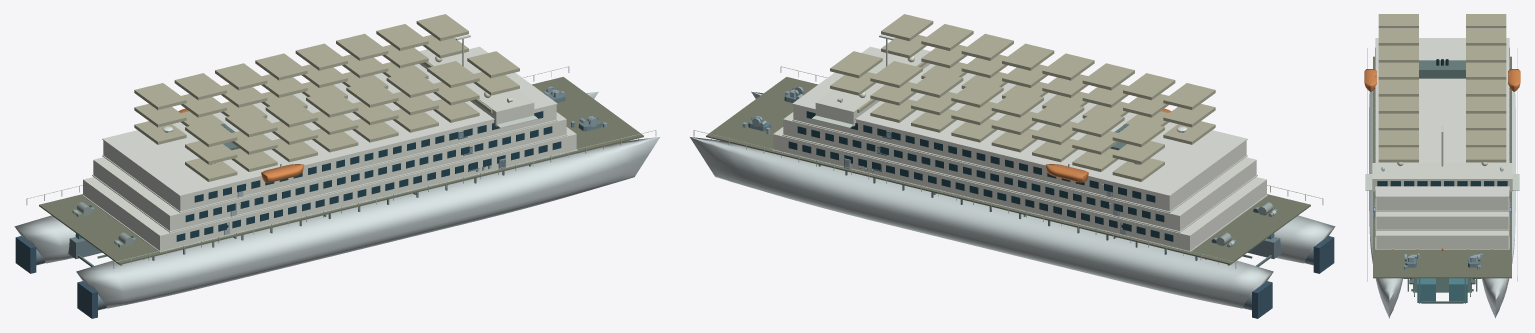
The model's file is francisco.lod0.glb.
3 renders of one model, left to right at view 1: azimuth 30°, elevation 25°; view 2: azimuth 150°, elevation 25°; view 3: azimuth 270°, elevation 25°, orthographic. The views are drawn at different scales.
Visible parts, largest first — view 1: francisco.structure.twin-hulls.starboard-pontoon.1, francisco.accommodation.superstructure.superstructure-weathe, francisco.structure.decks.main-strength-deck.1, francisco.accommodation.superstructure.deck-1-enclosure.1, francisco.accommodation.superstructure.deck-2-enclosure.1, francisco.accommodation.deck-6-interiors.deck-6-starboard-ca (×8), francisco.accommodation.deck-5-interiors.deck-5-starboard-ca (×8), francisco.accommodation.superstructure.deck-3-enclosure.1, francisco.accommodation.deck-4-interiors.deck-4-starboard-ca (×7), francisco.navigation.bridge.wheelhouse.1, francisco.structure.twin-hulls.port-pontoon.1, francisco.accommodation.superstructure.deck-2-floor.1 (+23 smaller); view 2: francisco.structure.twin-hulls.port-pontoon.1, francisco.accommodation.superstructure.superstructure-weathe, francisco.structure.decks.main-strength-deck.1, francisco.accommodation.superstructure.deck-1-enclosure.1, francisco.accommodation.superstructure.deck-2-enclosure.1, francisco.accommodation.deck-6-interiors.deck-6-starboard-ca (×8), francisco.accommodation.deck-5-interiors.deck-5-starboard-ca (×8), francisco.accommodation.superstructure.deck-3-enclosure.1, francisco.navigation.bridge.wheelhouse.1, francisco.structure.twin-hulls.starboard-pontoon.1, francisco.accommodation.superstructure.deck-2-floor.1, francisco.accommodation.superstructure.deck-3-floor.1 (+29 smaller); view 3: francisco.accommodation.superstructure.superstructure-weathe, francisco.accommodation.deck-6-interiors.deck-6-starboard-ca (×8), francisco.structure.decks.main-strength-deck.1, francisco.navigation.bridge.wheelhouse.1, francisco.accommodation.superstructure.deck-2-enclosure.1, francisco.accommodation.superstructure.deck-1-enclosure.1, francisco.accommodation.superstructure.deck-3-enclosure.1, francisco.structure.twin-hulls.port-pontoon.1, francisco.structure.twin-hulls.starboard-pontoon.1, francisco.propulsion.exhaust.exhaust-casing.1, francisco.accommodation.deck-6-interiors.deck-6-port-cabin-6, francisco.accommodation.deck-5-interiors.deck-5-port-cabin-8 (+19 smaller).
Boxes of the visible parts, bbox=[...] form: francisco.structure.twin-hulls.starboard-pontoon.1: bbox=[76, 137, 659, 308]; francisco.accommodation.superstructure.superstructure-weathe: bbox=[102, 46, 557, 196]; francisco.structure.decks.main-strength-deck.1: bbox=[39, 77, 643, 264]; francisco.accommodation.superstructure.deck-1-enclosure.1: bbox=[83, 127, 576, 250]; francisco.accommodation.superstructure.deck-2-enclosure.1: bbox=[93, 112, 566, 231]; francisco.accommodation.deck-6-interiors.deck-6-starboard-ca (×8): bbox=[185, 51, 519, 147]; francisco.accommodation.deck-5-interiors.deck-5-starboard-ca (×8): bbox=[185, 72, 519, 164]; francisco.accommodation.superstructure.deck-3-enclosure.1: bbox=[103, 105, 556, 211]; francisco.accommodation.deck-4-interiors.deck-4-starboard-ca (×7): bbox=[185, 99, 479, 181]; francisco.navigation.bridge.wheelhouse.1: bbox=[419, 49, 534, 126]; francisco.structure.twin-hulls.port-pontoon.1: bbox=[14, 91, 598, 263]; francisco.accommodation.superstructure.deck-2-floor.1: bbox=[92, 134, 567, 232]; francisco.structure.twin-hulls.port-pontoon.1: bbox=[690, 137, 1273, 308]; francisco.accommodation.superstructure.superstructure-weathe: bbox=[792, 46, 1247, 196]; francisco.structure.decks.main-strength-deck.1: bbox=[706, 77, 1310, 264]; francisco.accommodation.superstructure.deck-1-enclosure.1: bbox=[773, 127, 1266, 250]; francisco.accommodation.superstructure.deck-2-enclosure.1: bbox=[783, 112, 1256, 231]; francisco.accommodation.deck-6-interiors.deck-6-starboard-ca (×8): bbox=[881, 14, 1215, 109]; francisco.accommodation.deck-5-interiors.deck-5-starboard-ca (×8): bbox=[881, 35, 1215, 127]; francisco.accommodation.superstructure.deck-3-enclosure.1: bbox=[793, 105, 1246, 211]; francisco.navigation.bridge.wheelhouse.1: bbox=[815, 49, 930, 126]; francisco.structure.twin-hulls.starboard-pontoon.1: bbox=[751, 91, 1335, 263]; francisco.accommodation.superstructure.deck-2-floor.1: bbox=[782, 134, 1257, 232]; francisco.accommodation.superstructure.deck-3-floor.1: bbox=[792, 119, 1247, 212]; francisco.accommodation.superstructure.superstructure-weathe: bbox=[1375, 38, 1509, 197]; francisco.accommodation.deck-6-interiors.deck-6-starboard-ca (×8): bbox=[1378, 14, 1418, 147]; francisco.structure.decks.main-strength-deck.1: bbox=[1373, 56, 1511, 278]; francisco.navigation.bridge.wheelhouse.1: bbox=[1372, 163, 1512, 191]; francisco.accommodation.superstructure.deck-2-enclosure.1: bbox=[1376, 211, 1508, 229]; francisco.accommodation.superstructure.deck-1-enclosure.1: bbox=[1376, 231, 1508, 248]; francisco.accommodation.superstructure.deck-3-enclosure.1: bbox=[1376, 197, 1508, 210]; francisco.structure.twin-hulls.port-pontoon.1: bbox=[1482, 91, 1515, 318]; francisco.structure.twin-hulls.starboard-pontoon.1: bbox=[1369, 91, 1402, 318]; francisco.propulsion.exhaust.exhaust-casing.1: bbox=[1419, 60, 1465, 78]; francisco.accommodation.deck-6-interiors.deck-6-port-cabin-6: bbox=[1466, 98, 1506, 113]; francisco.accommodation.deck-5-interiors.deck-5-port-cabin-8: bbox=[1466, 147, 1506, 162].
Size of the model in its own units: 99 by 25.3 by 26.98.
